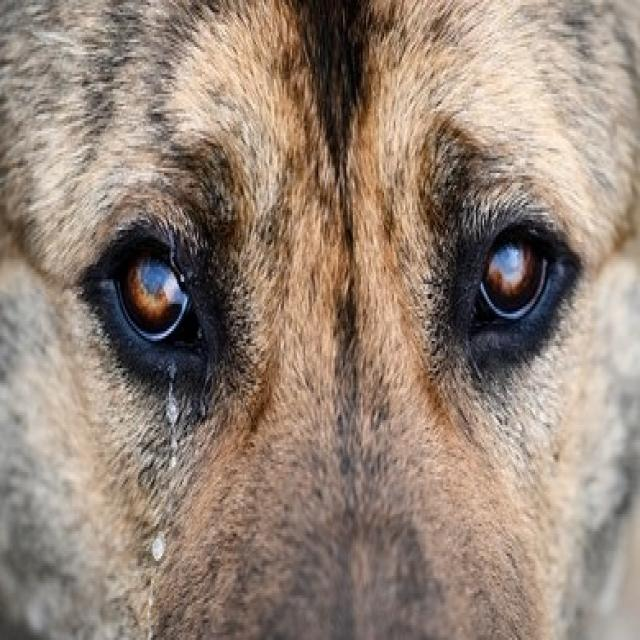sad: (39, 1, 599, 640)
